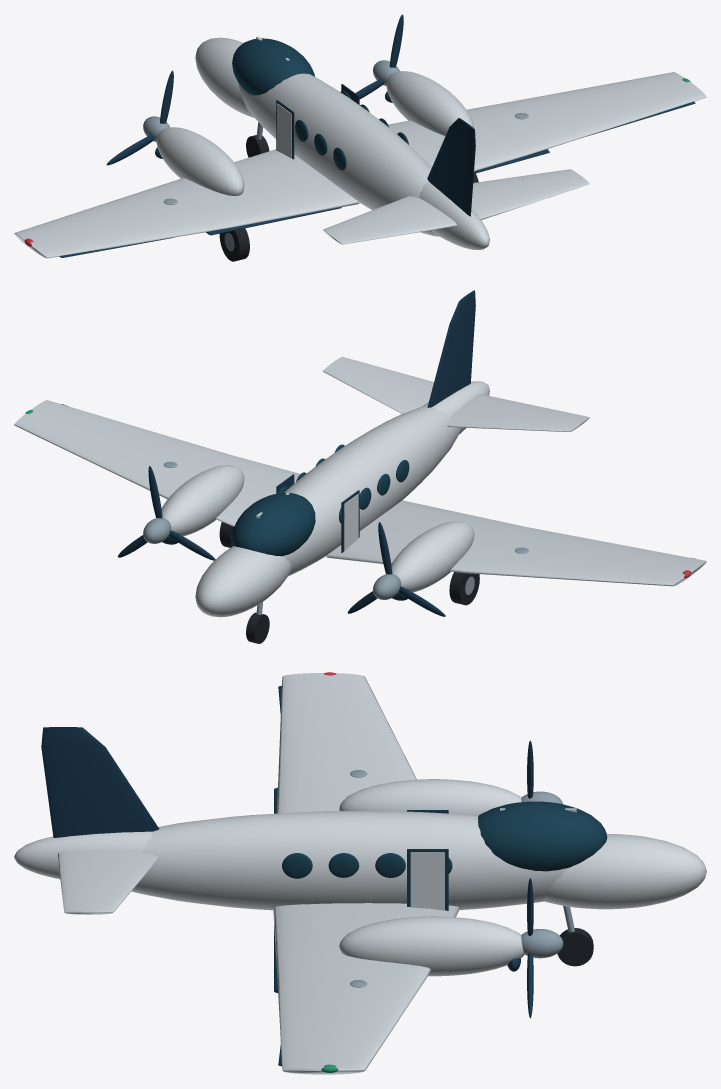
File: acia-generic-twin.glb
3 views of the same model, one above another, from view 1: azimuth 30°, elevation 25°; view 2: azimuth 150°, elevation 25°; view 3: azimuth 270°, elevation 25° (orthographic). The views are drawn at different scales.
Parts seen in each view (by area): view 1: Wing_port, Wing_starboard, Fuselage, Nacelle_port, Stabilizer_port, Nacelle_starboard, Stabilizer_starboard, CockpitCanopy, VerticalFin, Nose, TailCone, DoorInset_port (+5 smaller); view 2: Wing_port, Fuselage, Wing_starboard, Nose, CockpitCanopy, Nacelle_port, Nacelle_starboard, Stabilizer_port, Stabilizer_starboard, VerticalFin, TailCone, MainWheel_port (+4 smaller); view 3: Fuselage, Wing_starboard, Wing_port, VerticalFin, Nose, Nacelle_starboard, CockpitCanopy, Stabilizer_starboard, Nacelle_port, TailCone, DoorInset_starboard, NoseWheel (+2 smaller).
Part boxes in pixels (x1,y1,x2,y2): Wing_port: (14, 149, 359, 258); Wing_starboard: (388, 72, 706, 171); Fuselage: (238, 73, 439, 236); Nacelle_port: (156, 127, 244, 195); Stabilizer_port: (323, 196, 457, 244); Nacelle_starboard: (386, 71, 474, 135); Stabilizer_starboard: (471, 169, 589, 219); CockpitCanopy: (232, 38, 314, 95); VerticalFin: (427, 118, 475, 216); Nose: (195, 37, 254, 117); TailCone: (419, 181, 489, 249); DoorInset_port: (277, 103, 291, 158); Wing_port: (326, 500, 706, 586); Fuselage: (282, 406, 459, 576); Wing_starboard: (14, 400, 300, 526); Nose: (195, 546, 291, 617); CockpitCanopy: (232, 493, 315, 556); Nacelle_port: (391, 521, 474, 592); Nacelle_starboard: (161, 465, 244, 536); Stabilizer_port: (447, 394, 589, 431); Stabilizer_starboard: (323, 357, 433, 413); VerticalFin: (427, 290, 475, 407); TailCone: (422, 381, 489, 434); MainWheel_port: (449, 572, 479, 605); Fuselage: (131, 811, 568, 910); Wing_starboard: (273, 903, 459, 1074); Wing_port: (276, 673, 416, 813); VerticalFin: (41, 727, 159, 837); Nose: (544, 833, 706, 909); Nacelle_starboard: (339, 916, 524, 976); CockpitCanopy: (478, 801, 607, 871); Stabilizer_starboard: (57, 850, 159, 914); Nacelle_port: (339, 779, 521, 815); TailCone: (14, 831, 153, 879); DoorInset_starboard: (410, 852, 444, 910); NoseWheel: (557, 928, 593, 966).
Bounding box in the file's own units: 15.3 × 4.25 × 11.3.
